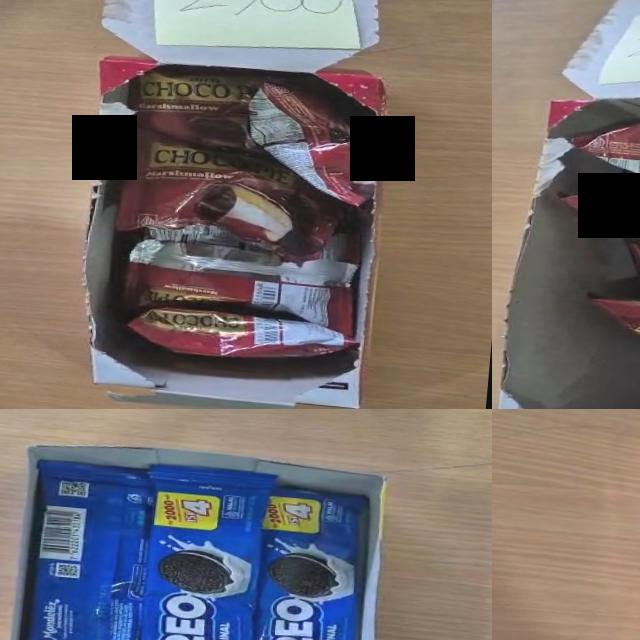Chocopie: (115, 129, 336, 258), (126, 251, 352, 334), (248, 81, 374, 205), (131, 307, 352, 357), (132, 67, 258, 149), (571, 116, 640, 175), (561, 192, 640, 242), (148, 223, 241, 246)
Oreo: (126, 460, 279, 640), (9, 457, 157, 640), (244, 482, 375, 640)
